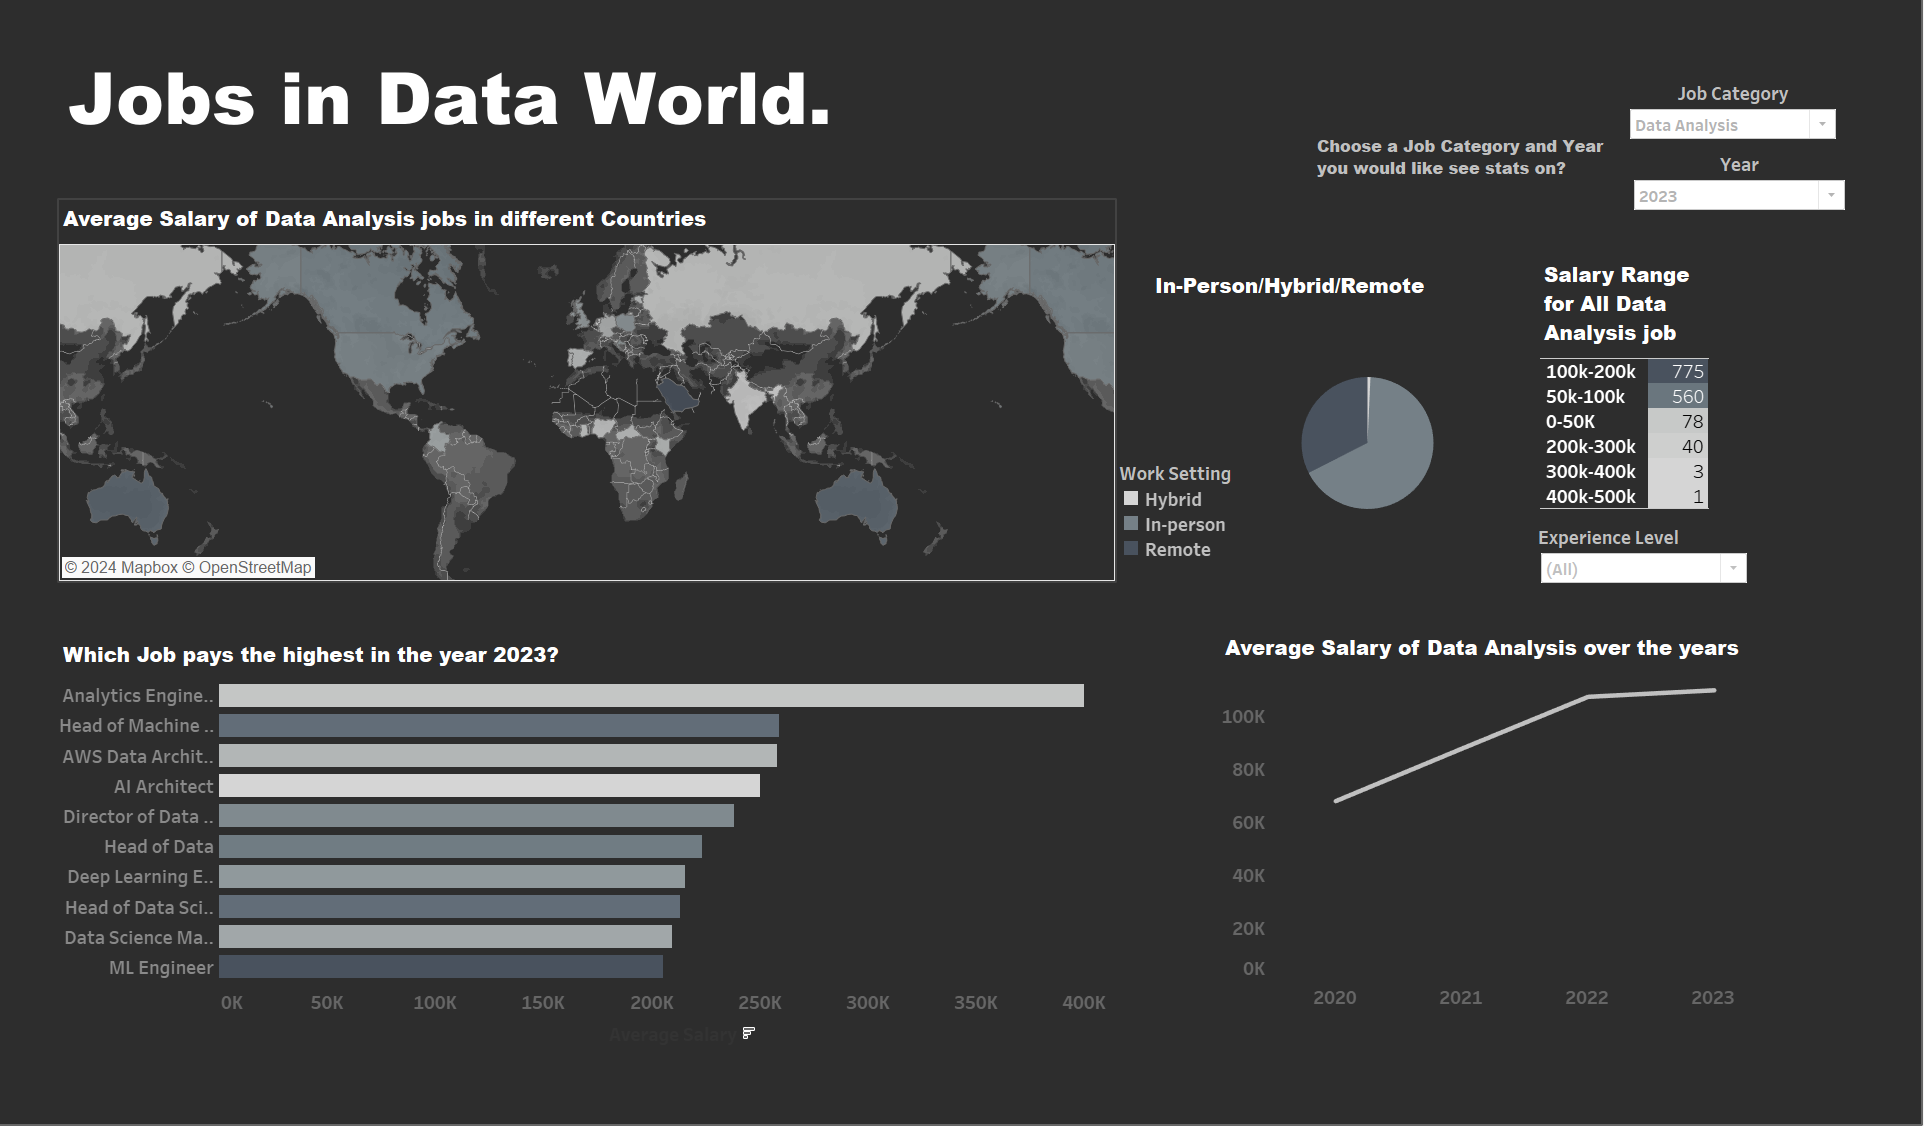

What the dashboard file says about the page in this screenshot:
{"tool":"tableau","page":{"name":"Main Dashboard","canvas":[1000,800],"ordinal":1},"visuals":[{"type":"image","param":"/Users/harshithabenakanahallinagaraj/Downloads/3000.png","box":[8,8,984,784]},{"type":"text","box":[34,27,575,82]},{"type":"filter","title":"country maps","param":"[federated.0lyb0ih1cns6cm18kgf6m0lqe989].[none:JOB_CATEGORY:nk]","box":[846,57,110,44]},{"type":"text","box":[683,71,159,81]},{"type":"filter","title":"country maps","param":"[federated.0lyb0ih1cns6cm18kgf6m0lqe989].[yr:WORK_YEAR:ok]","box":[848,107,113,44]},{"type":"worksheet","title":"country maps","mark":"Multipolygon","box":[31,142,549,271]},{"type":"worksheet","title":"exp level","mark":"Square","rows":["SALARY_BIN_LABEL"],"box":[801,182,171,194]},{"type":"worksheet","title":"work setting","mark":"Pie","box":[599,190,225,219]},{"type":"legend","title":"work setting","param":"[federated.0lyb0ih1cns6cm18kgf6m0lqe989].[none:WORK_SETTING:nk]","box":[582,327,108,85]},{"type":"filter","title":"exp level","param":"[federated.0lyb0ih1cns6cm18kgf6m0lqe989].[none:EXPERIENCE_LEVEL:nk]","box":[800,372,110,44]},{"type":"worksheet","title":"years","mark":"Automatic","rows":["SALARY_IN_USD"],"cols":["WORK_YEAR"],"box":[635,447,289,271]},{"type":"worksheet","title":"job pay","mark":"Automatic","rows":["JOB_TITLE"],"cols":["Calculation_285697142504755201"],"box":[31,452,555,296]}]}

Visuals, with their boxes on the page's 1000x800 design canvas (x1, y1, x2, y2). These are canvas units, not pixel positions in the 1924x1126 screenshot, which may show the page scaled, cropped or inside an application window:
image: (left=8, top=8, right=992, bottom=792)
text: (left=34, top=27, right=609, bottom=109)
"country maps" filter: (left=846, top=57, right=956, bottom=101)
text: (left=683, top=71, right=842, bottom=152)
"country maps" filter: (left=848, top=107, right=961, bottom=151)
"country maps" worksheet (Multipolygon marks): (left=31, top=142, right=580, bottom=413)
"exp level" worksheet (Square marks): (left=801, top=182, right=972, bottom=376)
"work setting" worksheet (Pie marks): (left=599, top=190, right=824, bottom=409)
"work setting" legend: (left=582, top=327, right=690, bottom=412)
"exp level" filter: (left=800, top=372, right=910, bottom=416)
"years" worksheet: (left=635, top=447, right=924, bottom=718)
"job pay" worksheet: (left=31, top=452, right=586, bottom=748)
